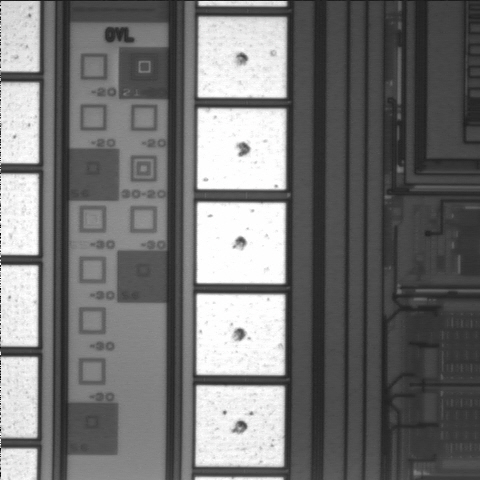pad: (195, 385, 285, 467), (197, 108, 286, 190), (197, 202, 286, 284), (196, 294, 285, 375), (198, 17, 286, 98)
